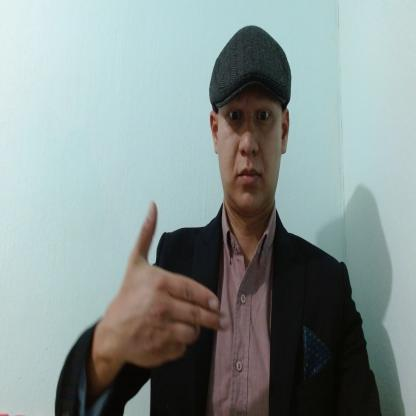H: (120, 198, 231, 368)
